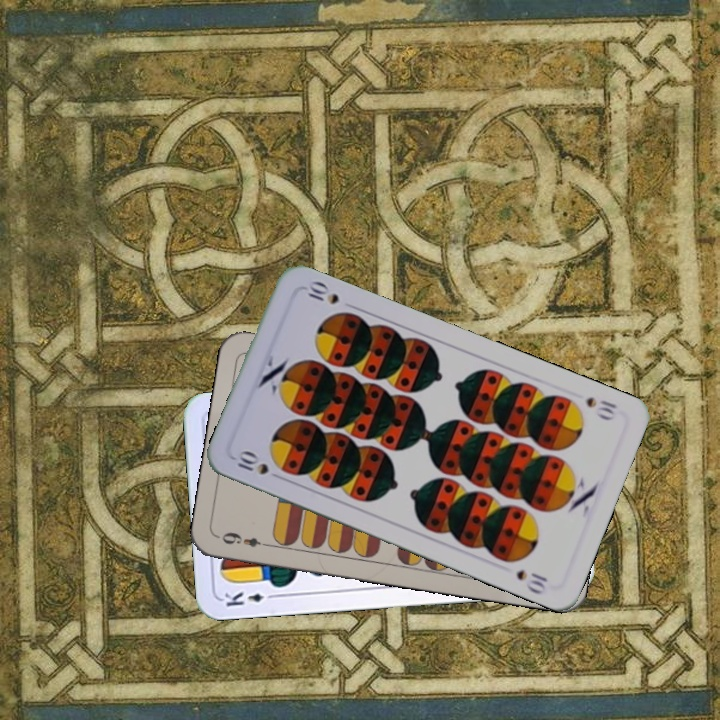E9: (217, 528, 274, 550)
EK: (220, 587, 280, 609)
S10: (233, 447, 286, 481), (582, 392, 620, 423)
